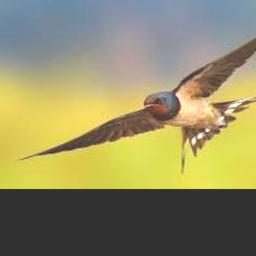Swallow: (18, 12, 256, 173)
